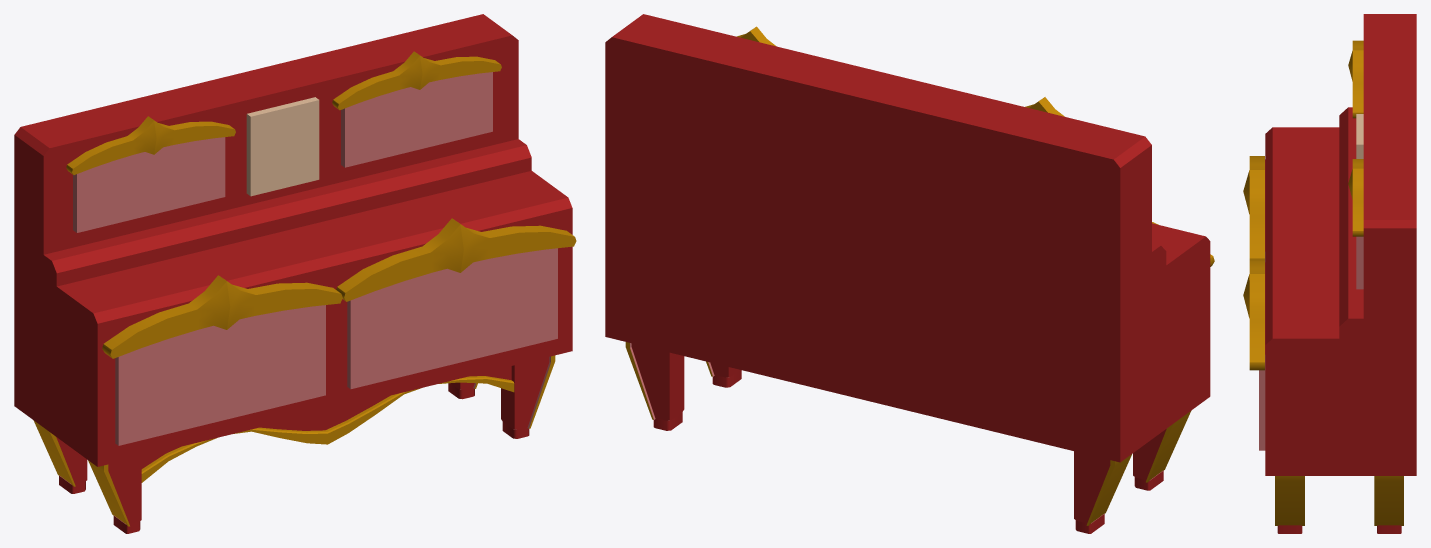
The model's file is STM_Cabinet.fbx.
The picture shows the model from 3 angles, left to right: view 1: azimuth 30°, elevation 25°; view 2: azimuth 150°, elevation 25°; view 3: azimuth 270°, elevation 25°; orthographic projection. The views are drawn at different scales.
Parts seen in each view (by area): view 1: polySurface5; view 2: polySurface5; view 3: polySurface5.
Boxes of the visible parts, x1,y1,x2,y2 form: polySurface5: [14, 14, 576, 533]; polySurface5: [605, 14, 1214, 533]; polySurface5: [1243, 14, 1416, 533].
Size of the model in its own units: 3.3 by 2.44 by 1.14.
